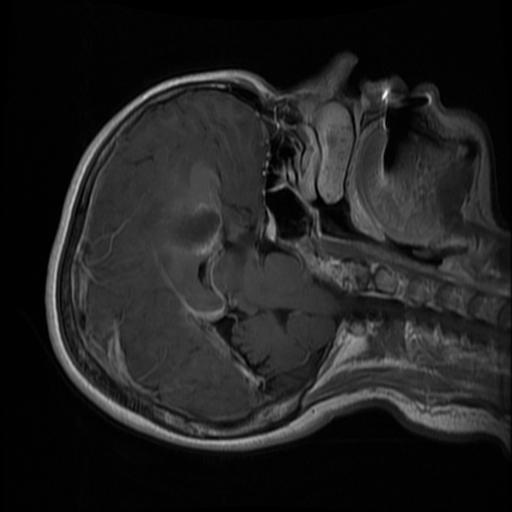glioma: (165, 205, 223, 253)
